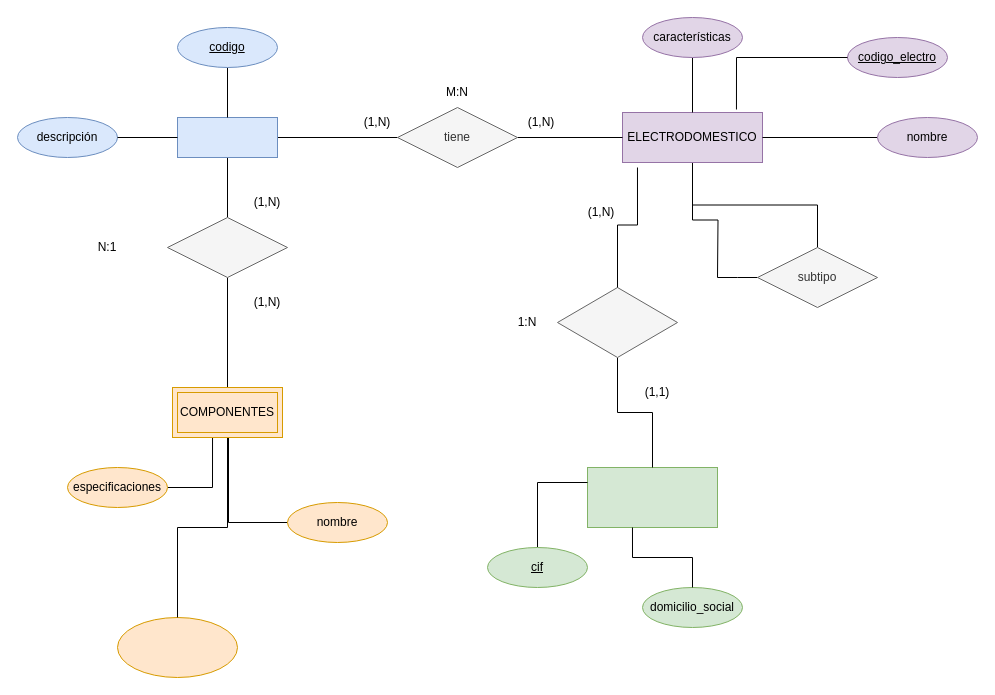
Some shapes in this 995 by 695 pixel diagram are drawn without their labels. The shapes that lost their labels are listed below. From the top down, each one's centre as x and y in pixels, then its label:
At (227,137): "APARATO ELECTRÓNICO".
At (227,247): "se compone".
At (617,322): "suministra".
At (652,497): "FABRICANTES DE COMPONENTES".
At (177,647): "codigo_componente".
